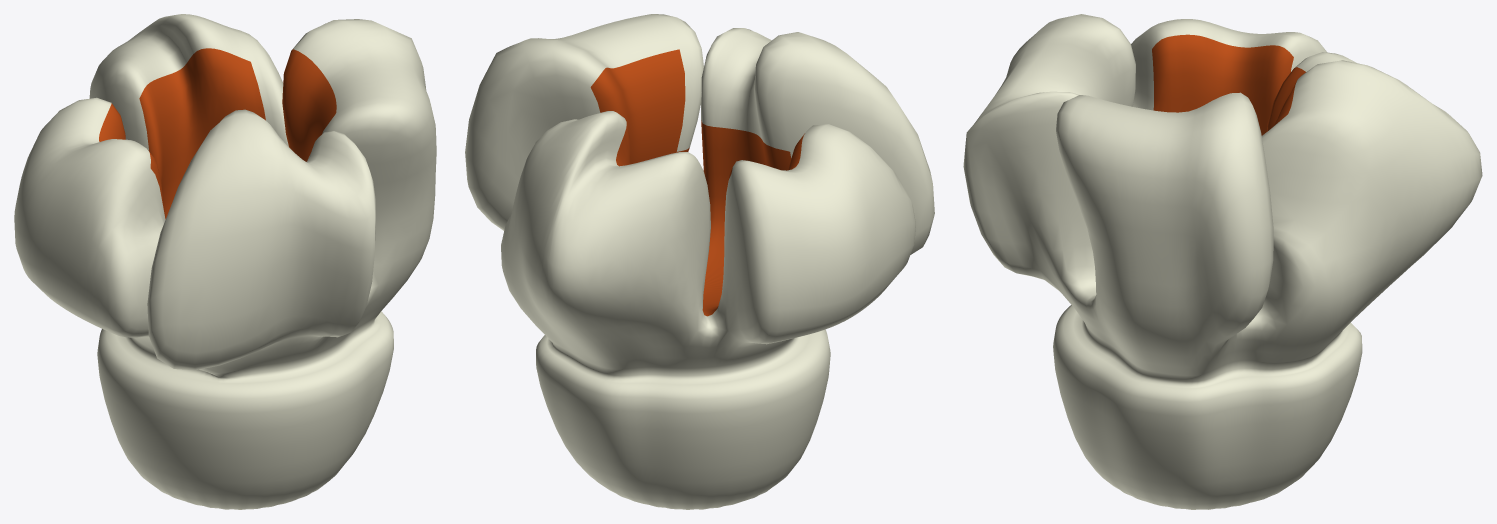
The model's file is pop_corn.fbx.
3 renders of one model, left to right at view 1: azimuth 30°, elevation 25°; view 2: azimuth 150°, elevation 25°; view 3: azimuth 270°, elevation 25°, orthographic. The views are drawn at different scales.
Visible parts, largest first — view 1: Cylinder; view 2: Cylinder; view 3: Cylinder.
Part boxes in pixels (<box>): Cylinder: <box>14,14,436,509</box>; Cylinder: <box>465,14,934,509</box>; Cylinder: <box>963,14,1482,509</box>.
Size of the model in its own units: 300 by 313 by 325.
